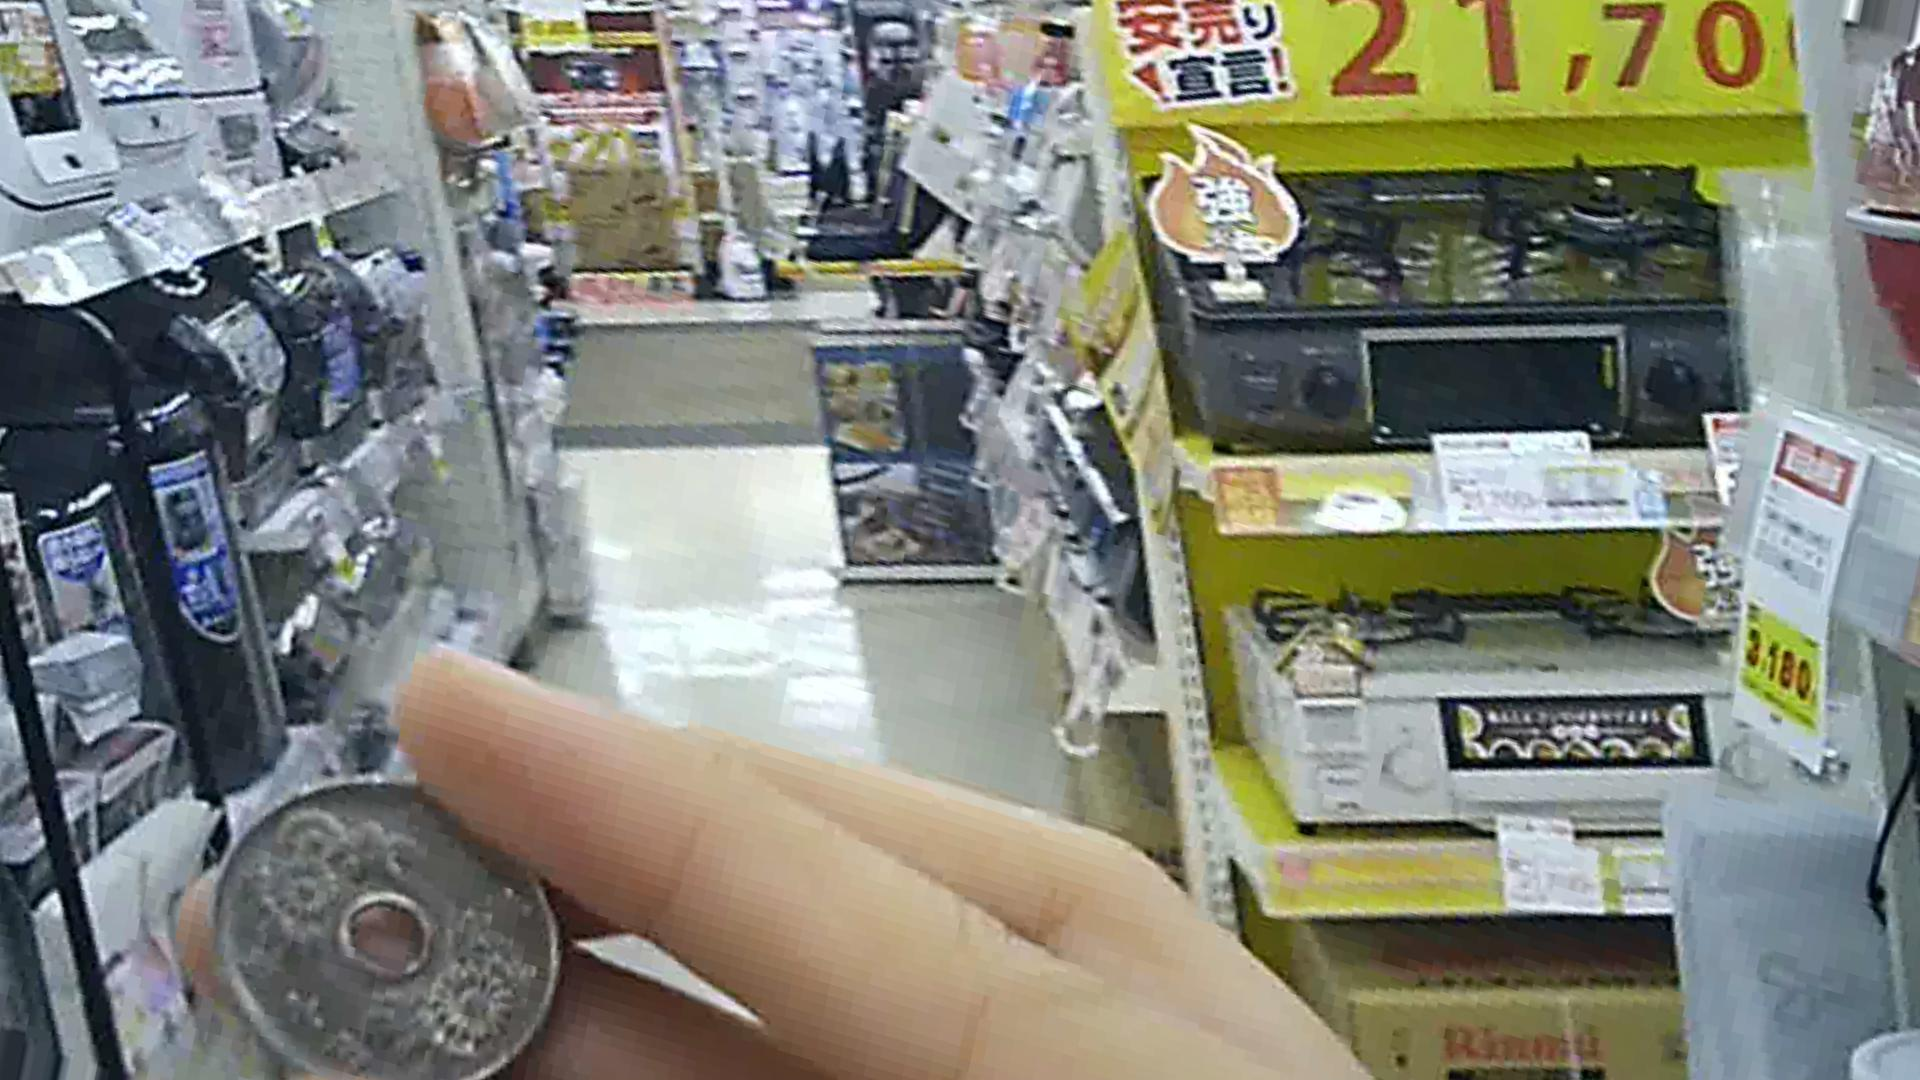50 Yen: (207, 781, 564, 1079)
